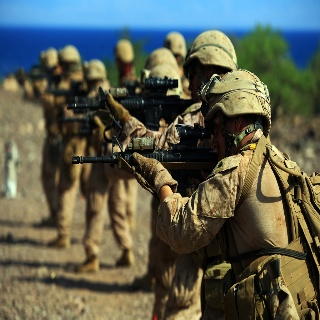rifle: (72, 122, 222, 173), (68, 77, 204, 124)
